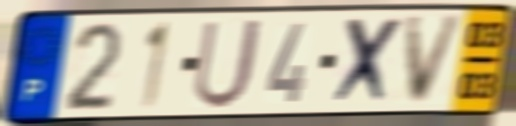1: (140, 17, 178, 113)
2: (63, 19, 125, 114)
4: (264, 20, 308, 105)
U: (190, 16, 266, 112)
V: (402, 12, 468, 109)
X: (327, 14, 407, 109)
